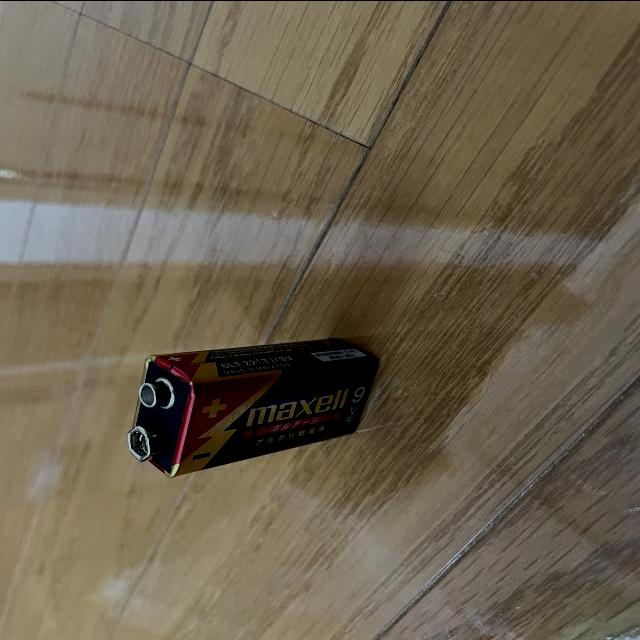9V: (124, 335, 380, 478)
